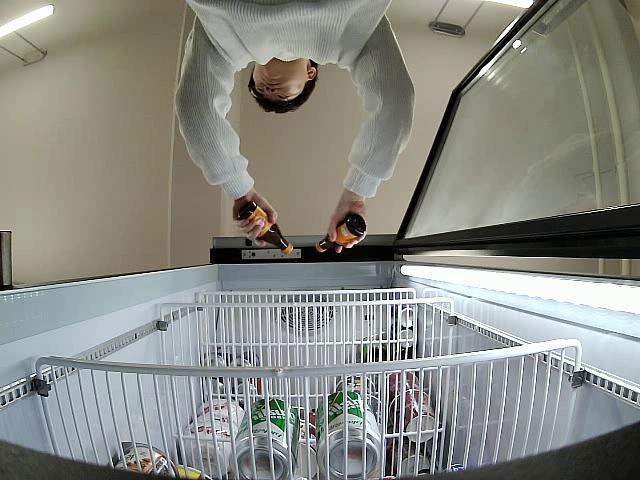17_vita500: (234, 201, 294, 256), (316, 212, 366, 252)
